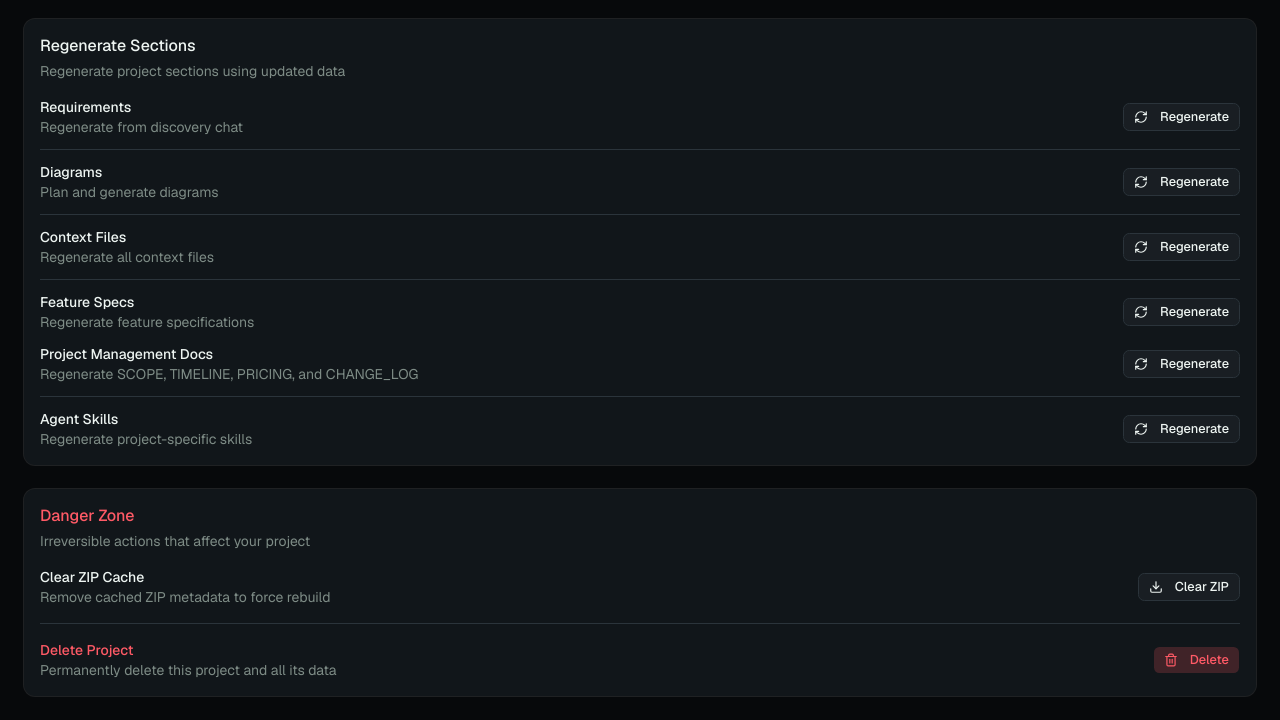
Test: ProjectSettings › shows delete confirmation dialog
The width and height of the screenshot is (1280, 720).
(page scrolled)
Click the button "Delete": (1196, 660) [1153, 646, 1240, 674]
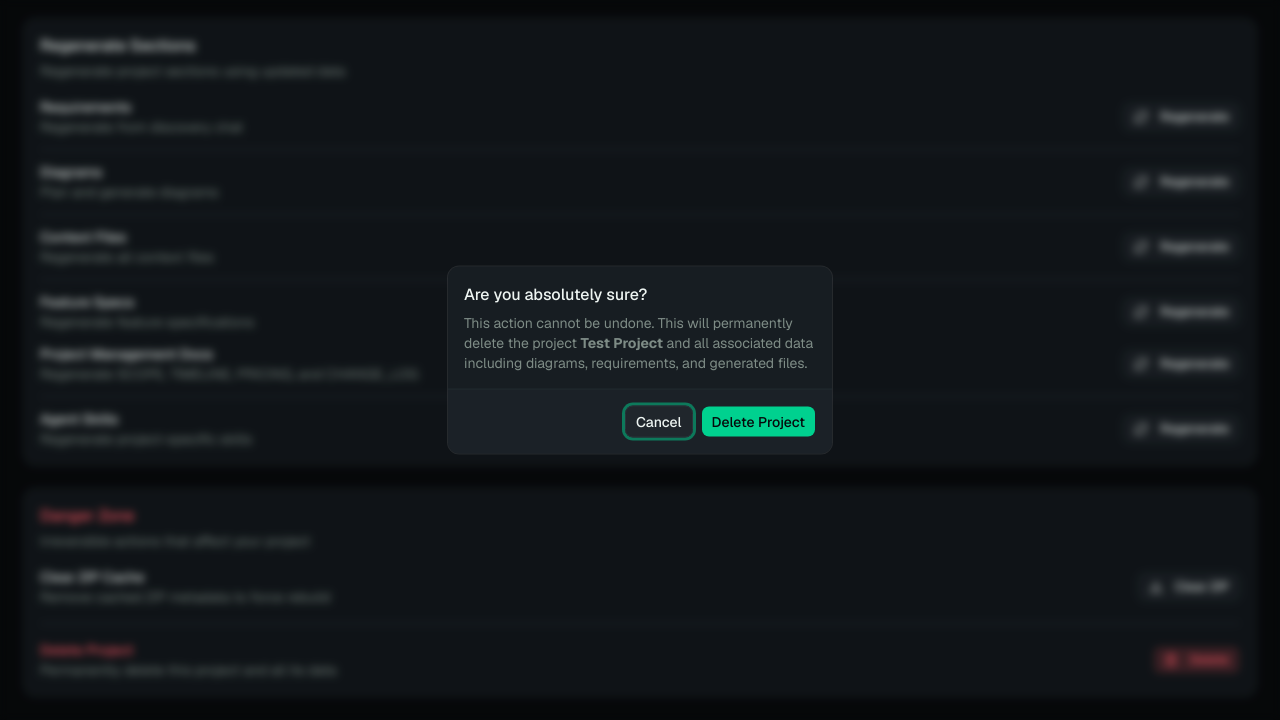
Now the heading "Are you absolutely sure?" is shown, box [464, 282, 647, 306]
Now the text "permanently delete the project" is shown, box [464, 314, 793, 352]
